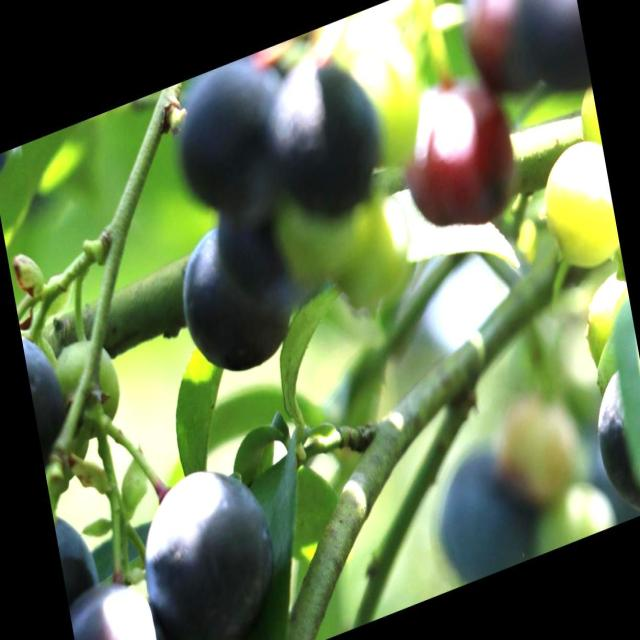blueberry: (125, 436, 290, 640), (169, 192, 306, 400), (266, 41, 389, 228), (170, 48, 292, 234), (65, 553, 172, 639), (511, 0, 590, 104)
blueberry-halfripe: (394, 70, 526, 248)
blueberry-unripe: (528, 128, 620, 282), (48, 320, 129, 444), (573, 268, 639, 380)
